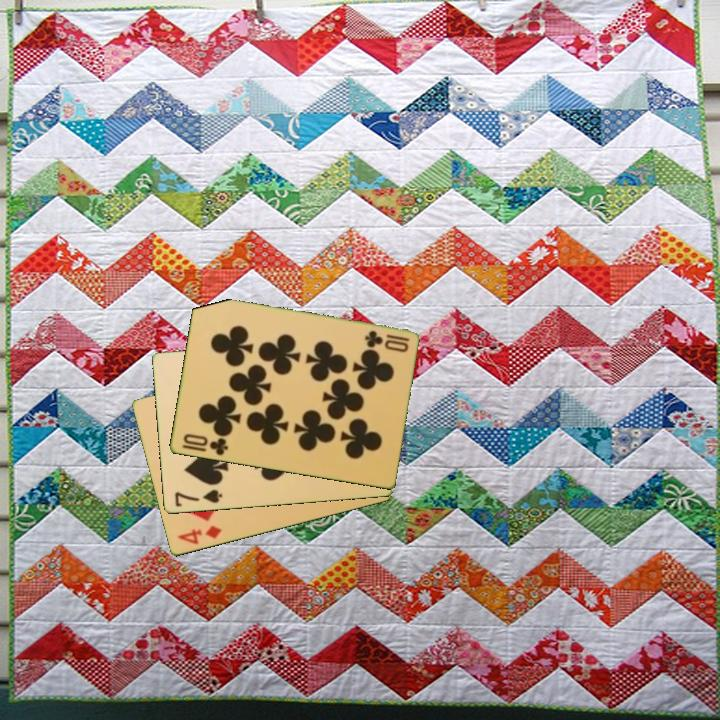10c: (179, 430, 231, 459), (361, 327, 412, 355)
4d: (174, 522, 225, 548)
7s: (171, 486, 225, 510)
